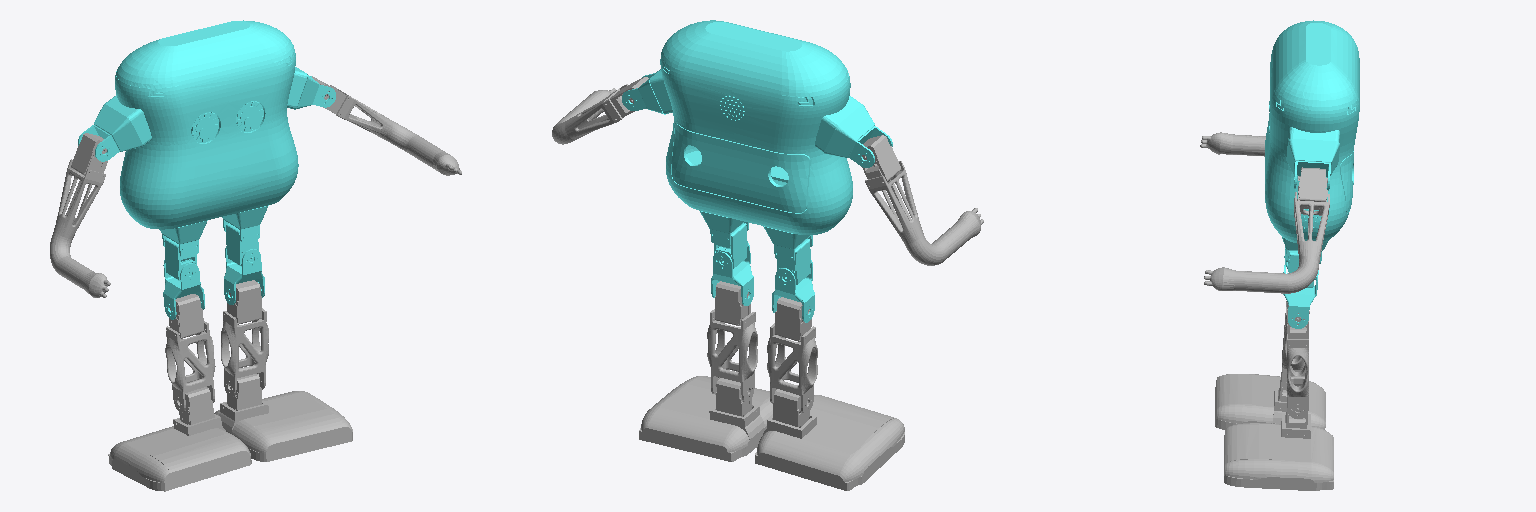
robot.urdf — Asem_URDF2.4:
<?xml version="1.0" encoding="utf-8"?>
<!-- This URDF was automatically created by SolidWorks to URDF Exporter! Originally created by [author] ([email redacted]) 
     Commit Version: 1.6.0-1-g15f4949  Build Version: 1.6.7594.29634
     For more information, please see http://wiki.ros.org/sw_urdf_exporter -->
<robot
  name="Asem_URDF2.4">
  <link
    name="base_link">
  <inertial>
      <origin
        xyz="0.00273860635706594 0.0292770276848692 -0.19192942122049"
        rpy="0 0 0" />
      <mass
        value="2.51232556100381" />
      <inertia
        ixx="0.00310363508347201"
        ixy="1.70395978312002E-05"
        ixz="-2.9557809027377E-05"
        iyy="0.00360819495801331"
        iyz="0.000152500090407864"
        izz="0.00511008775875093" />
    </inertial>
    <visual>
      <origin
        xyz="0 0 0"
        rpy="0 0 0" />
      <geometry>
        <mesh
          filename="base_link.STL" />
      </geometry>
      <material
        name="">
        <color
          rgba="0.470588235294118 1 1 1" />
      </material>
    </visual>
    <collision>
      <origin
        xyz="0 0 0"
        rpy="0 0 0" />
      <geometry>
        <mesh
          filename="base_link.STL" />
      </geometry>
    </collision>
  </link>
  <link
    name="left_hip">
    <inertial>
      <origin
        xyz="6.49127867291543E-08 -0.0232493781965637 -0.020501388971461"
        rpy="0 0 0" />
      <mass
        value="0.0182000419878892" />
      <inertia
        ixx="4.61904406212197E-06"
        ixy="3.99049700375635E-12"
        ixz="-1.203593758414E-11"
        iyy="4.55422094522448E-06"
        iyz="-1.64972135782108E-10"
        izz="4.61891872101621E-06" />
    </inertial>
    <visual>
      <origin
        xyz="0 0 0"
        rpy="0 0 0" />
      <geometry>
        <mesh
          filename="left_hip.STL" />
      </geometry>
      <material
        name="">
        <color
          rgba="0.470588235294118 1 1 1" />
      </material>
    </visual>
    <collision>
      <origin
        xyz="0 0 0"
        rpy="0 0 0" />
      <geometry>
        <mesh
          filename="left_hip.STL" />
      </geometry>
    </collision>
  </link>
  <joint
    name="left_hipj"
    type="revolute">
    <origin
      xyz="0.0410000000000001 0.0160621549575831 -0.1781942054281"
      rpy="1.50490772369021 0 0" />
    <parent
      link="base_link" />
    <child
      link="left_hip" />
    <axis
      xyz="0 0 1" />
    <limit
      lower="-1.57"
      upper="1.57"
      effort="0"
      velocity="1000" />
  </joint>
  <link
    name="left_knee">
    <inertial>
      <origin
        xyz="0.0144594849968872 0.0212251585640907 -0.0370141568389523"
        rpy="0 0 0" />
      <mass
        value="0.0689612295694067" />
      <inertia
        ixx="3.42775690179589E-05"
        ixy="-3.32883813960357E-07"
        ixz="5.76259510179505E-07"
        iyy="3.66875881854108E-05"
        iyz="1.07645451496406E-05"
        izz="2.42571770160965E-05" />
    </inertial>
    <visual>
      <origin
        xyz="0 0 0"
        rpy="0 0 0" />
      <geometry>
        <mesh
          filename="left_knee.STL" />
      </geometry>
      <material
        name="">
        <color
          rgba="0.752941176470588 0.752941176470588 0.752941176470588 1" />
      </material>
    </visual>
    <collision>
      <origin
        xyz="0 0 0"
        rpy="0 0 0" />
      <geometry>
        <mesh
          filename="left_knee.STL" />
      </geometry>
    </collision>
  </link>
  <joint
    name="left_kneej"
    type="revolute">
    <origin
      xyz="-0.0145 -0.046496 -0.020503"
      rpy="-2.0279 0 0" />
    <parent
      link="left_hip" />
    <child
      link="left_knee" />
    <axis
      xyz="1 0 0" />
    <limit
      lower="-1.57"
      upper="1.57"
      effort="0"
      velocity="1000" />
  </joint>
  <link
    name="left_ankle">
    <inertial>
      <origin
        xyz="0.0485951755707418 -0.0500739281275212 0.0175907500032908"
        rpy="0 0 0" />
      <mass
        value="0.508305315550368" />
      <inertia
        ixx="0.000639578408517215"
        ixy="6.35687523771487E-06"
        ixz="-3.89612935539665E-06"
        iyy="0.00124671749506692"
        iyz="2.76032825552071E-06"
        izz="0.000688373458609745" />
    </inertial>
    <visual>
      <origin
        xyz="0 0 0"
        rpy="0 0 0" />
      <geometry>
        <mesh
          filename="left_ankle.STL" />
      </geometry>
      <material
        name="">
        <color
          rgba="0.752941176470588 0.752941176470588 0.752941176470588 1" />
      </material>
    </visual>
    <collision>
      <origin
        xyz="0 0 0"
        rpy="0 0 0" />
      <geometry>
        <mesh
          filename="left_ankle.STL" />
      </geometry>
    </collision>
  </link>
  <joint
    name="left_anklej"
    type="revolute">
    <origin
      xyz="-0.00075 0.058783 -0.10232"
      rpy="2.0329 0 0" />
    <parent
      link="left_knee" />
    <child
      link="left_ankle" />
    <axis
      xyz="1 0 0" />
    <limit
      lower="-1.57"
      upper="1.57"
      effort="0"
      velocity="1000" />
  </joint>
  <link
    name="right_hip">
    <inertial>
      <origin
        xyz="6.2617527690767E-08 -0.0232493776850195 -0.0205013890065061"
        rpy="0 0 0" />
      <mass
        value="0.0182000425195511" />
      <inertia
        ixx="4.61904407070278E-06"
        ixy="4.0641533201617E-12"
        ixz="-1.18399397405024E-11"
        iyy="4.5542216832972E-06"
        iyz="-1.65078832016206E-10"
        izz="4.61891927695759E-06" />
    </inertial>
    <visual>
      <origin
        xyz="0 0 0"
        rpy="0 0 0" />
      <geometry>
        <mesh
          filename="right_hip.STL" />
      </geometry>
      <material
        name="">
        <color
          rgba="0.470588235294118 1 1 1" />
      </material>
    </visual>
    <collision>
      <origin
        xyz="0 0 0"
        rpy="0 0 0" />
      <geometry>
        <mesh
          filename="right_hip.STL" />
      </geometry>
    </collision>
  </link>
  <joint
    name="right_hipj"
    type="revolute">
    <origin
      xyz="-0.041 0.018307 -0.17834"
      rpy="1.5048 -0.059883 0.0039561" />
    <parent
      link="base_link" />
    <child
      link="right_hip" />
    <axis
      xyz="0 0 1" />
    <limit
      lower="-1.57"
      upper="1.57"
      effort="0"
      velocity="1000" />
  </joint>
  <link
    name="right_knee">
    <inertial>
      <origin
        xyz="0.0144595004246736 0.0212252132579203 -0.0370142713447092"
        rpy="0 0 0" />
      <mass
        value="0.068961373549845" />
      <inertia
        ixx="3.4277600898901E-05"
        ixy="-3.32865031269719E-07"
        ixz="5.76226690928462E-07"
        iyy="3.66875993226641E-05"
        iyz="1.07645719984772E-05"
        izz="2.42572077794417E-05" />
    </inertial>
    <visual>
      <origin
        xyz="0 0 0"
        rpy="0 0 0" />
      <geometry>
        <mesh
          filename="right_knee.STL" />
      </geometry>
      <material
        name="">
        <color
          rgba="0.752941176470588 0.752941176470588 0.752941176470588 1" />
      </material>
    </visual>
    <collision>
      <origin
        xyz="0 0 0"
        rpy="0 0 0" />
      <geometry>
        <mesh
          filename="right_knee.STL" />
      </geometry>
    </collision>
  </link>
  <joint
    name="right_kneej"
    type="revolute">
    <origin
      xyz="-0.0145 -0.046496 -0.020503"
      rpy="-2.1064 0 0" />
    <parent
      link="right_hip" />
    <child
      link="right_knee" />
    <axis
      xyz="1 0 0" />
    <limit
      lower="-1.57"
      upper="1.57"
      effort="0"
      velocity="1000" />
  </joint>
  <link
    name="right_ankle">
    <inertial>
      <origin
        xyz="-0.0210223460294471 -0.050074154109761 0.0175898673923349"
        rpy="0 0 0" />
      <mass
        value="0.508298587672201" />
      <inertia
        ixx="0.000639581748865773"
        ixy="-6.36565884184125E-06"
        ixz="3.89302062163782E-06"
        iyy="0.00124672263383992"
        iyz="2.75712030404062E-06"
        izz="0.000688374619270354" />
    </inertial>
    <visual>
      <origin
        xyz="0 0 0"
        rpy="0 0 0" />
      <geometry>
        <mesh
          filename="right_ankle.STL" />
      </geometry>
      <material
        name="">
        <color
          rgba="0.752941176470588 0.752941176470588 0.752941176470588 1" />
      </material>
    </visual>
    <collision>
      <origin
        xyz="0 0 0"
        rpy="0 0 0" />
      <geometry>
        <mesh
          filename="right_ankle.STL" />
      </geometry>
    </collision>
  </link>
  <joint
    name="right_anklej"
    type="revolute">
    <origin
      xyz="0.00125 0.058783 -0.10232"
      rpy="2.0551 0 0" />
    <parent
      link="right_knee" />
    <child
      link="right_ankle" />
    <axis
      xyz="1 0 0" />
    <limit
      lower="-1.57"
      upper="1.57"
      effort="0"
      velocity="1000" />
  </joint>
  <link
    name="left_arm">
    <inertial>
      <origin
        xyz="0.0692750484921916 0.000143960257932951 0.00832692284466566"
        rpy="0 0 0" />
      <mass
        value="0.0805238549961511" />
      <inertia
        ixx="0.000100188452717387"
        ixy="2.1199192772884E-09"
        ixz="-5.69167654051837E-05"
        iyy="0.000173357324851997"
        iyz="1.5526678760011E-09"
        izz="8.1854737482831E-05" />
    </inertial>
    <visual>
      <origin
        xyz="0 0 0"
        rpy="0 0 0" />
      <geometry>
        <mesh
          filename="left_arm.STL" />
      </geometry>
      <material
        name="">
        <color
          rgba="0.752941176470588 0.752941176470588 0.752941176470588 1" />
      </material>
    </visual>
    <collision>
      <origin
        xyz="0 0 0"
        rpy="0 0 0" />
      <geometry>
        <mesh
          filename="left_arm.STL" />
      </geometry>
    </collision>
  </link>
  <joint
    name="left_armj"
    type="revolute">
    <origin
      xyz="0.14957 0.036555 -0.00051599"
      rpy="1.4884 0.64313 -0.04947" />
    <parent
      link="base_link" />
    <child
      link="left_arm" />
    <axis
      xyz="0 0 -1" />
    <limit
      lower="-1.57"
      upper="1.57"
      effort="0"
      velocity="1000" />
  </joint>
  <link
    name="right_arm">
    <inertial>
      <origin
        xyz="0.0692749457642911 0.00014408940086176 0.00832730819581615"
        rpy="0 0 0" />
      <mass
        value="0.080524198065637" />
      <inertia
        ixx="0.000100188501961004"
        ixy="2.16393871017756E-09"
        ixz="-5.69167745449834E-05"
        iyy="0.000173357294419499"
        iyz="1.52425115144859E-09"
        izz="8.1854511871745E-05" />
    </inertial>
    <visual>
      <origin
        xyz="0 0 0"
        rpy="0 0 0" />
      <geometry>
        <mesh
          filename="right_arm.STL" />
      </geometry>
      <material
        name="">
        <color
          rgba="0.752941176470588 0.752941176470588 0.752941176470588 1" />
      </material>
    </visual>
    <collision>
      <origin
        xyz="0 0 0"
        rpy="0 0 0" />
      <geometry>
        <mesh
          filename="right_arm.STL" />
      </geometry>
    </collision>
  </link>
  <joint
    name="right_armj"
    type="revolute">
    <origin
      xyz="-0.149573837944705 0.0355572928666302 -0.000450144112752238"
      rpy="-1.41909537349574 1.11999478715418 -3.0048484685421" />
    <parent
      link="base_link" />
    <child
      link="right_arm" />
    <axis
      xyz="0 0 -1" />
    <limit
      lower="-1.57"
      upper="1.57"
      effort="0"
      velocity="1000" />
  </joint>
</robot>

--- Render facts (derived) ---
Views: 3 orthographic renders of the robot side by side, from view 1: azimuth 30°, elevation 25°; view 2: azimuth 150°, elevation 25°; view 3: azimuth 270°, elevation 25°.
Robot: Asem_URDF2.4 — 9 links, 8 joints (8 revolute); root link base_link; default pose: all joints at 0.
Links seen in each view (by area): view 1: base_link, right_ankle, left_ankle, right_arm, left_knee, right_knee, left_arm, left_hip, right_hip; view 2: base_link, right_ankle, left_ankle, right_arm, left_knee, right_knee, left_arm, left_hip, right_hip; view 3: base_link, left_ankle, left_arm, right_ankle, left_knee, right_arm, left_hip.
Link boxes in pixels (x1,y1,x2,y2): base_link: (78, 20, 335, 281); right_ankle: (108, 387, 251, 491); left_ankle: (214, 374, 352, 461); right_arm: (50, 133, 110, 297); left_knee: (221, 280, 268, 396); right_knee: (165, 294, 215, 412); left_arm: (312, 76, 461, 175); left_hip: (224, 246, 264, 304); right_hip: (163, 260, 204, 319); base_link: (622, 20, 892, 284); right_ankle: (755, 389, 904, 490); left_ankle: (639, 376, 772, 461); right_arm: (862, 135, 983, 265); left_knee: (707, 281, 757, 401); right_knee: (767, 297, 817, 413); left_arm: (552, 77, 648, 144); left_hip: (711, 243, 753, 305); right_hip: (772, 260, 814, 322); base_link: (1265, 20, 1359, 287); left_ankle: (1224, 397, 1333, 490); left_arm: (1204, 167, 1329, 293); right_ankle: (1215, 369, 1325, 429); left_knee: (1287, 305, 1308, 418); right_arm: (1200, 132, 1265, 156); left_hip: (1283, 265, 1318, 328).
Size in the robot's own frame: 0.5 by 0.1892 by 0.5277 metres.
9 mesh visuals loaded from 9 distinct referenced files (9 binary STL).
